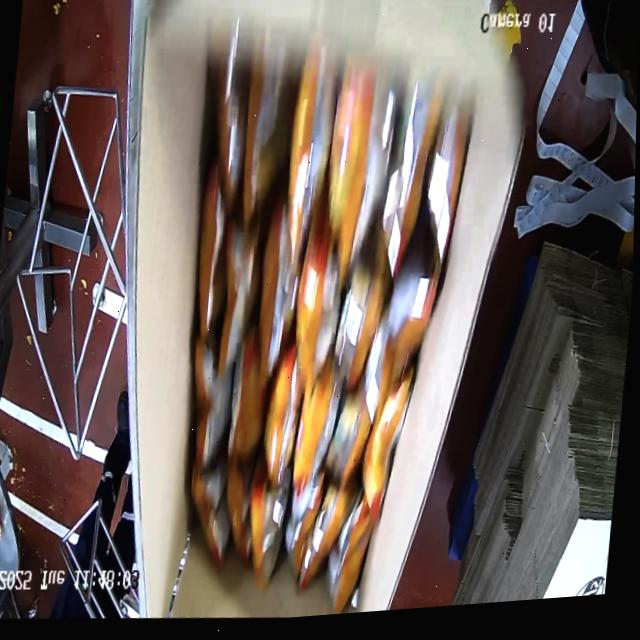FRENCH_CHEESE: (153, 55, 472, 624)
